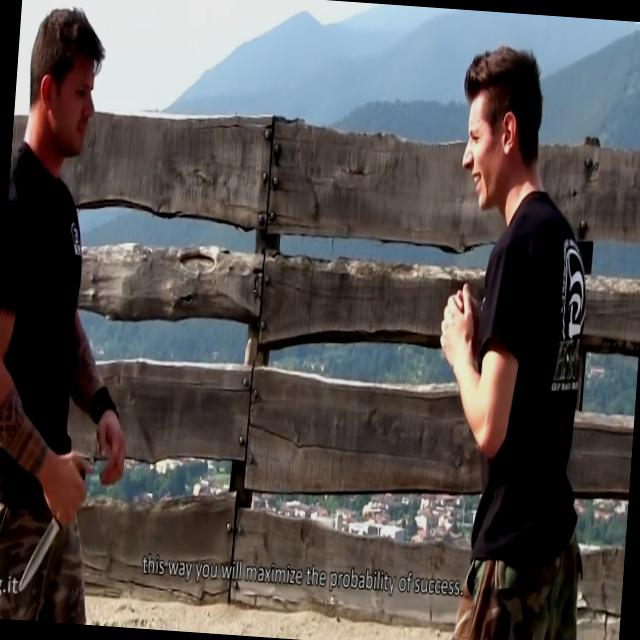knife: (15, 449, 91, 596)
